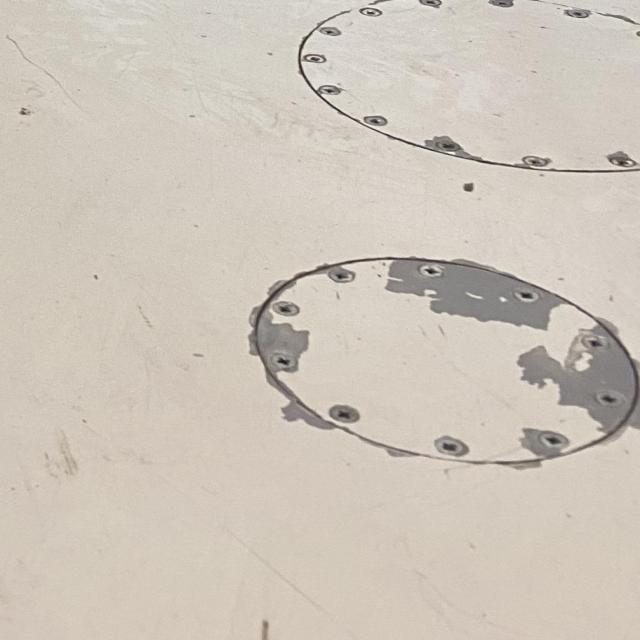Paint-off: (432, 270, 565, 332), (519, 341, 609, 412), (256, 322, 311, 365)
